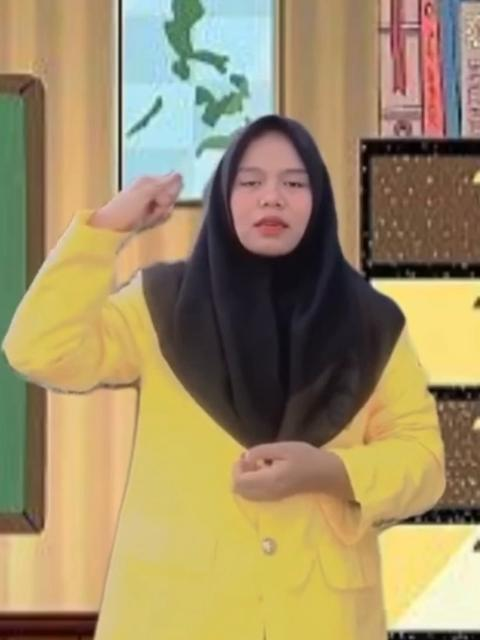J: (102, 175, 188, 238)
